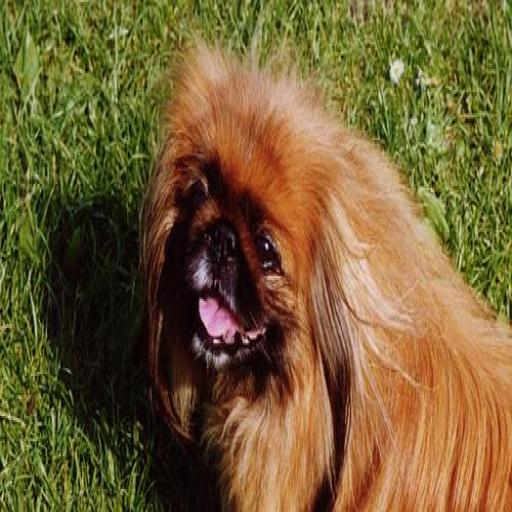dog_face: (142, 65, 348, 420)
